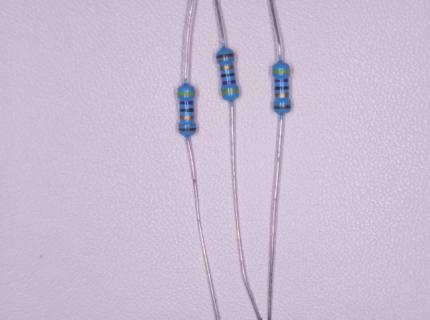Black band: (221, 73, 235, 78), (180, 108, 195, 112), (275, 86, 289, 90)
Brown band: (216, 54, 234, 59), (273, 105, 291, 110), (178, 128, 196, 132)
Gold band: (219, 65, 235, 71), (179, 115, 195, 119), (275, 93, 290, 97)
Violet band: (222, 80, 237, 86), (275, 78, 289, 83), (179, 101, 195, 105)
Yellow band: (221, 89, 240, 95), (272, 69, 291, 74), (177, 92, 195, 96)
